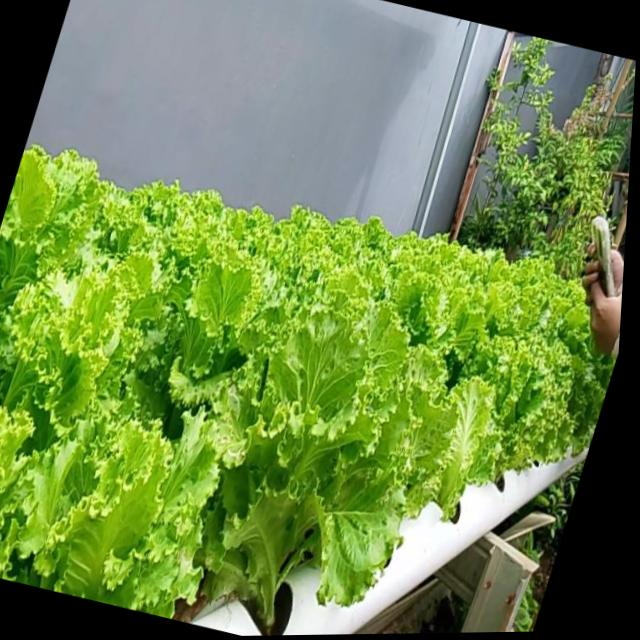Mature: (0, 146, 621, 634), (191, 324, 400, 620), (431, 300, 600, 505)
